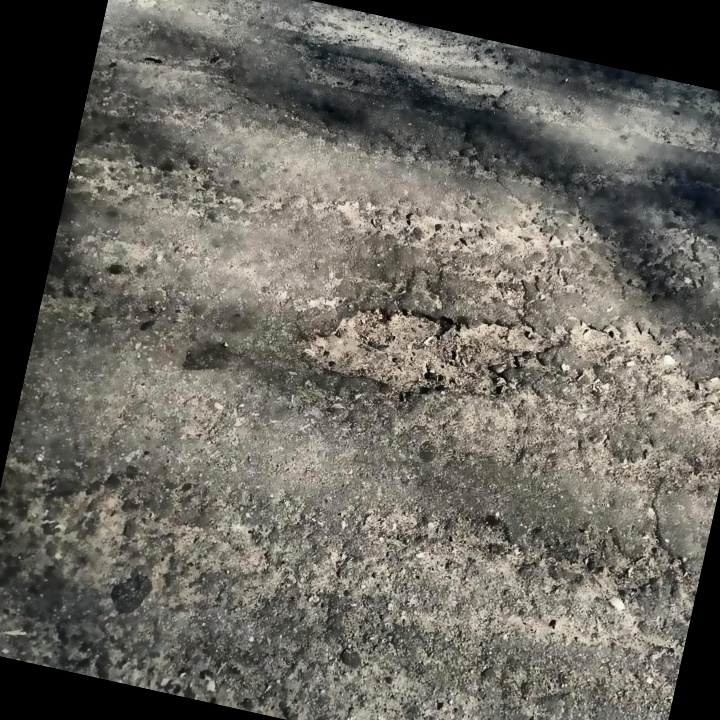pothole: (297, 275, 559, 430)
